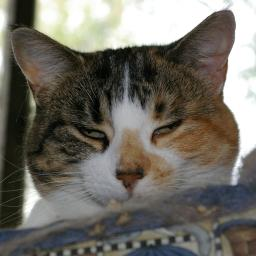catnose: (111, 163, 149, 194)
